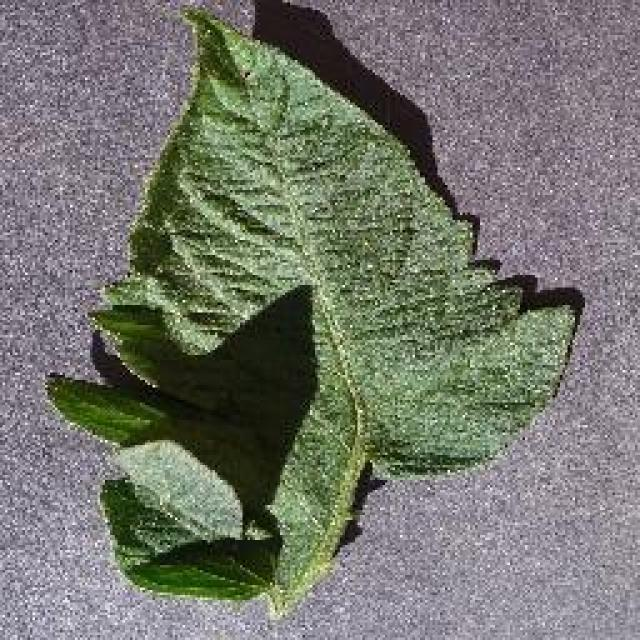Healthy: (37, 0, 597, 632)
